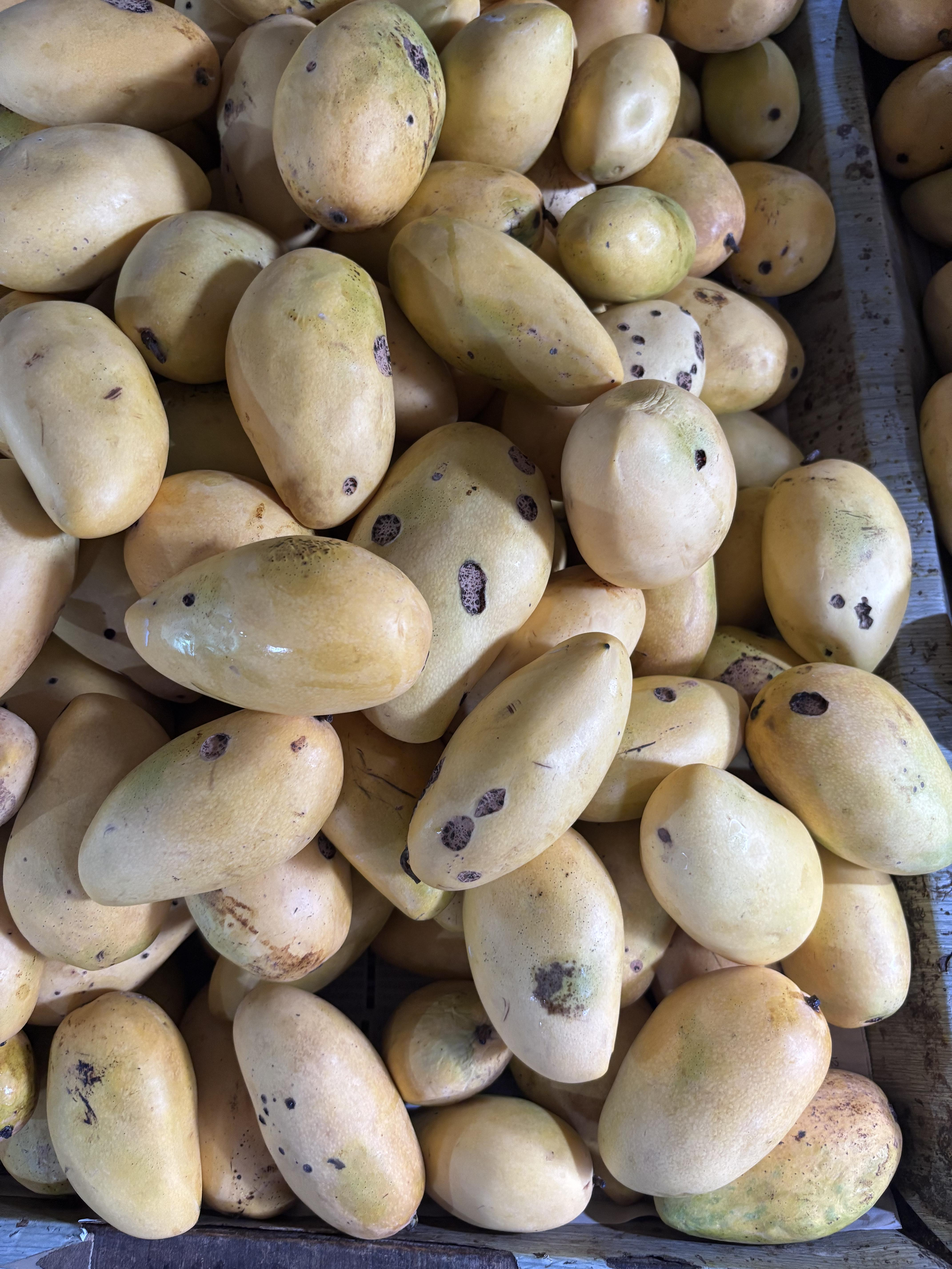mango: (408, 632, 632, 891), (126, 536, 432, 716), (599, 966, 831, 1197), (78, 710, 343, 906), (233, 982, 424, 1239), (226, 248, 395, 529), (47, 992, 202, 1239), (640, 764, 823, 965), (559, 34, 680, 185), (557, 185, 696, 304)
occluded: (349, 423, 554, 742), (3, 693, 170, 971), (389, 215, 623, 406), (746, 663, 952, 875), (655, 1069, 902, 1244), (463, 828, 623, 1083), (273, 0, 445, 233), (0, 300, 168, 538), (562, 379, 736, 591), (0, 123, 210, 293), (449, 564, 645, 734), (762, 459, 911, 671), (509, 999, 651, 1205), (0, 0, 220, 132), (115, 211, 281, 384), (317, 713, 450, 921), (180, 984, 296, 1218), (324, 161, 543, 283), (217, 14, 324, 249), (186, 832, 352, 982), (579, 675, 748, 822), (413, 1095, 592, 1232), (124, 470, 316, 596), (55, 534, 194, 702), (435, 3, 573, 172), (782, 847, 910, 1028), (29, 900, 196, 1025), (575, 820, 676, 1007), (0, 634, 172, 742), (0, 460, 78, 698), (620, 137, 745, 276), (663, 275, 787, 414), (382, 980, 511, 1106), (724, 161, 836, 297), (290, 868, 394, 992), (378, 284, 458, 443), (701, 39, 800, 160), (158, 379, 270, 483), (597, 299, 706, 395), (631, 558, 717, 678), (873, 52, 952, 180), (527, 132, 596, 278), (500, 393, 586, 501), (0, 1076, 74, 1195), (696, 626, 802, 707), (713, 486, 771, 630), (0, 865, 44, 1041), (553, 0, 665, 67), (664, 0, 798, 54), (371, 909, 471, 979), (718, 410, 804, 491), (848, 0, 952, 61), (653, 927, 737, 1000), (919, 373, 952, 555), (0, 708, 39, 826), (393, 0, 480, 52), (174, 0, 245, 63), (900, 167, 952, 249), (0, 1031, 38, 1141), (209, 956, 264, 1021), (218, 0, 350, 25), (923, 261, 952, 373), (669, 70, 702, 139), (0, 290, 65, 320), (434, 892, 464, 934), (551, 521, 567, 572), (0, 0, 23, 11), (160, 0, 166, 2), (732, 658, 732, 659)
